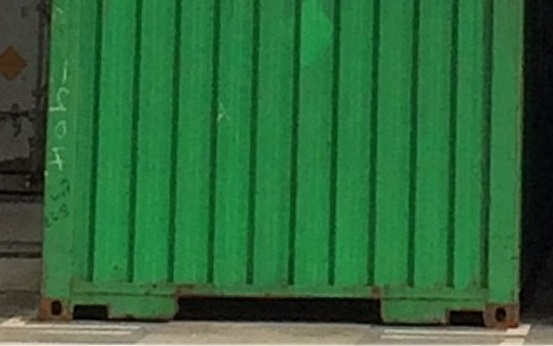container_no_door: (45, 3, 517, 328)
